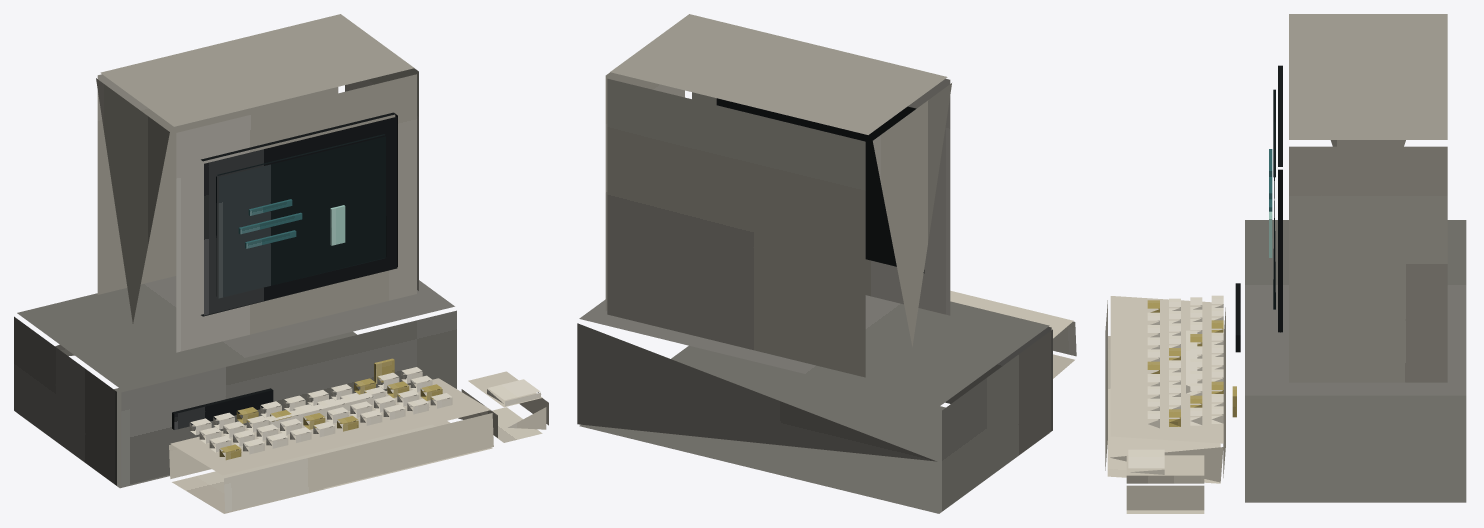
File: retro_computer_desktop_ivory.glb
3 views of the same model, side by side, from view 1: azimuth 30°, elevation 25°; view 2: azimuth 150°, elevation 25°; view 3: azimuth 270°, elevation 25° (orthographic). The views are drawn at different scales.
Visible parts, largest first — view 1: MonitorShell, DesktopCase, MonitorGlow, KeyboardBody, MonitorFace, Mouse, FloppySlot, SpaceBar, MouseButton, ScreenGlyph_4; view 2: MonitorShell, DesktopCase, MonitorFace, KeyboardBody; view 3: MonitorShell, DesktopCase, KeyboardBody, Mouse, MonitorFace, MouseButton, MonitorGlow, SpaceBar, FloppySlot.
Part boxes in pixels (bbox=[...]): MonitorShell: bbox=[96, 14, 418, 352]; DesktopCase: bbox=[14, 276, 456, 488]; MonitorGlow: bbox=[216, 134, 386, 298]; KeyboardBody: bbox=[169, 378, 493, 513]; MonitorFace: bbox=[201, 112, 397, 316]; Mouse: bbox=[461, 371, 548, 442]; FloppySlot: bbox=[172, 388, 273, 429]; SpaceBar: bbox=[265, 393, 373, 428]; MouseButton: bbox=[487, 379, 540, 406]; ScreenGlyph_4: bbox=[330, 205, 345, 245]; MonitorShell: bbox=[605, 14, 951, 377]; DesktopCase: bbox=[577, 295, 1052, 513]; MonitorFace: bbox=[716, 98, 924, 273]; KeyboardBody: bbox=[950, 290, 1076, 378]; MonitorShell: bbox=[1289, 14, 1447, 382]; DesktopCase: bbox=[1245, 220, 1466, 502]; KeyboardBody: bbox=[1105, 296, 1225, 483]; Mouse: bbox=[1126, 455, 1204, 513]; MonitorFace: bbox=[1278, 65, 1282, 332]; MouseButton: bbox=[1128, 449, 1164, 474]; MonitorGlow: bbox=[1273, 89, 1275, 309]; SpaceBar: bbox=[1186, 330, 1197, 393]; FloppySlot: bbox=[1235, 283, 1240, 352].
Bounding box in the file's own units: 1.1 × 0.92 × 0.8629.
Materials: 1 (1 with a texture image).
